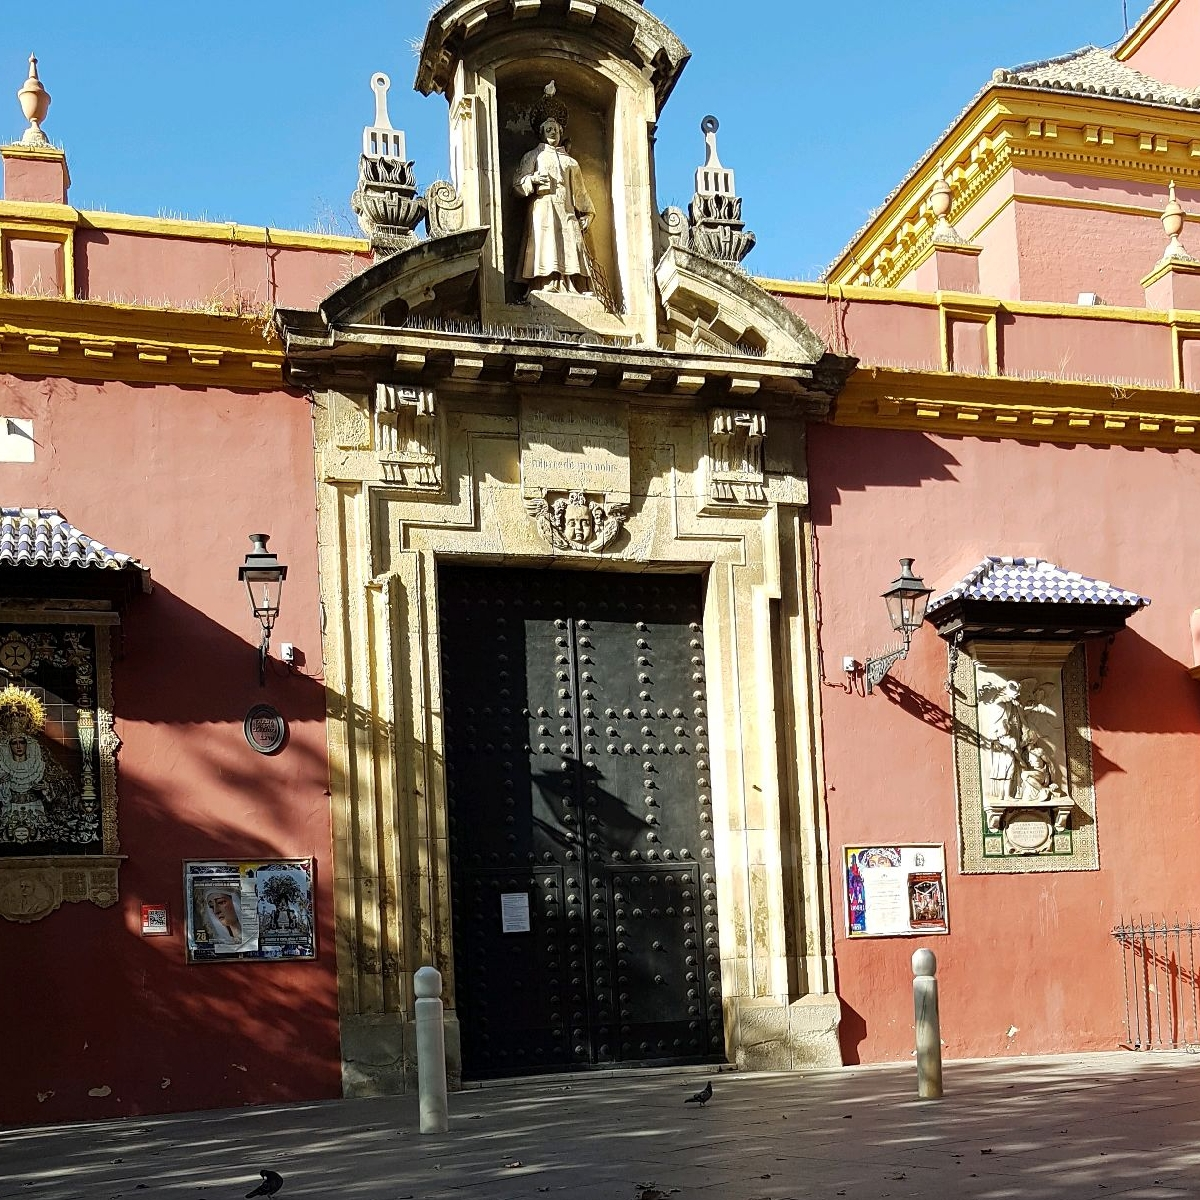fronton-partido: (310, 213, 823, 392)
vano-adintelado: (418, 508, 748, 1103)
